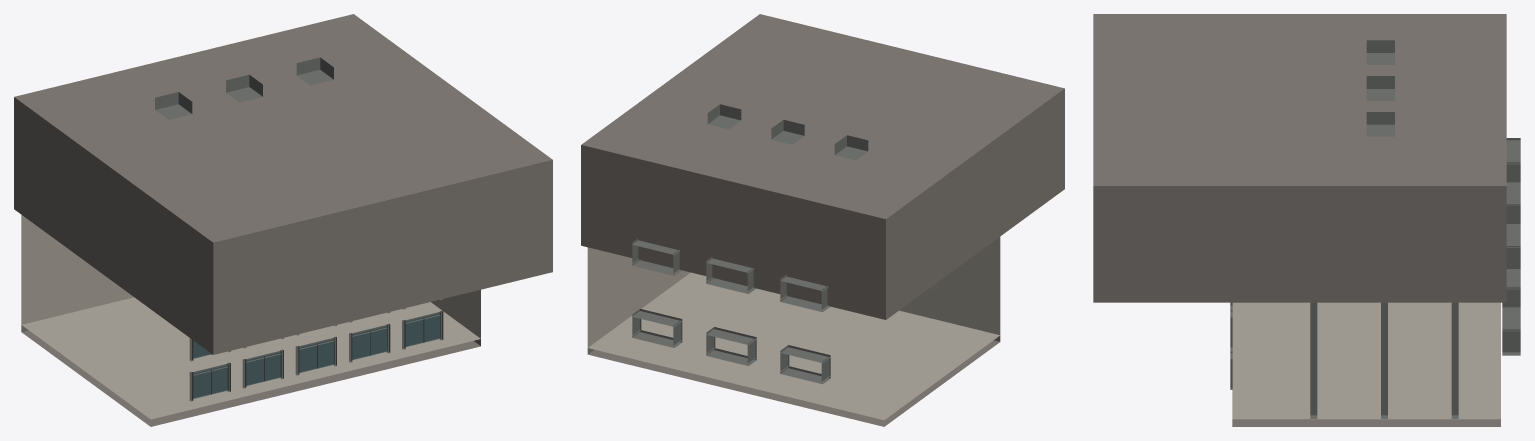
File: apartment_detail.glb
3 renders of one model, left to right at view 1: azimuth 30°, elevation 25°; view 2: azimuth 150°, elevation 25°; view 3: azimuth 270°, elevation 25°, orthographic. The views are drawn at different scales.
Size of the model in its own units: 29.2 by 20.4 by 30.25.
